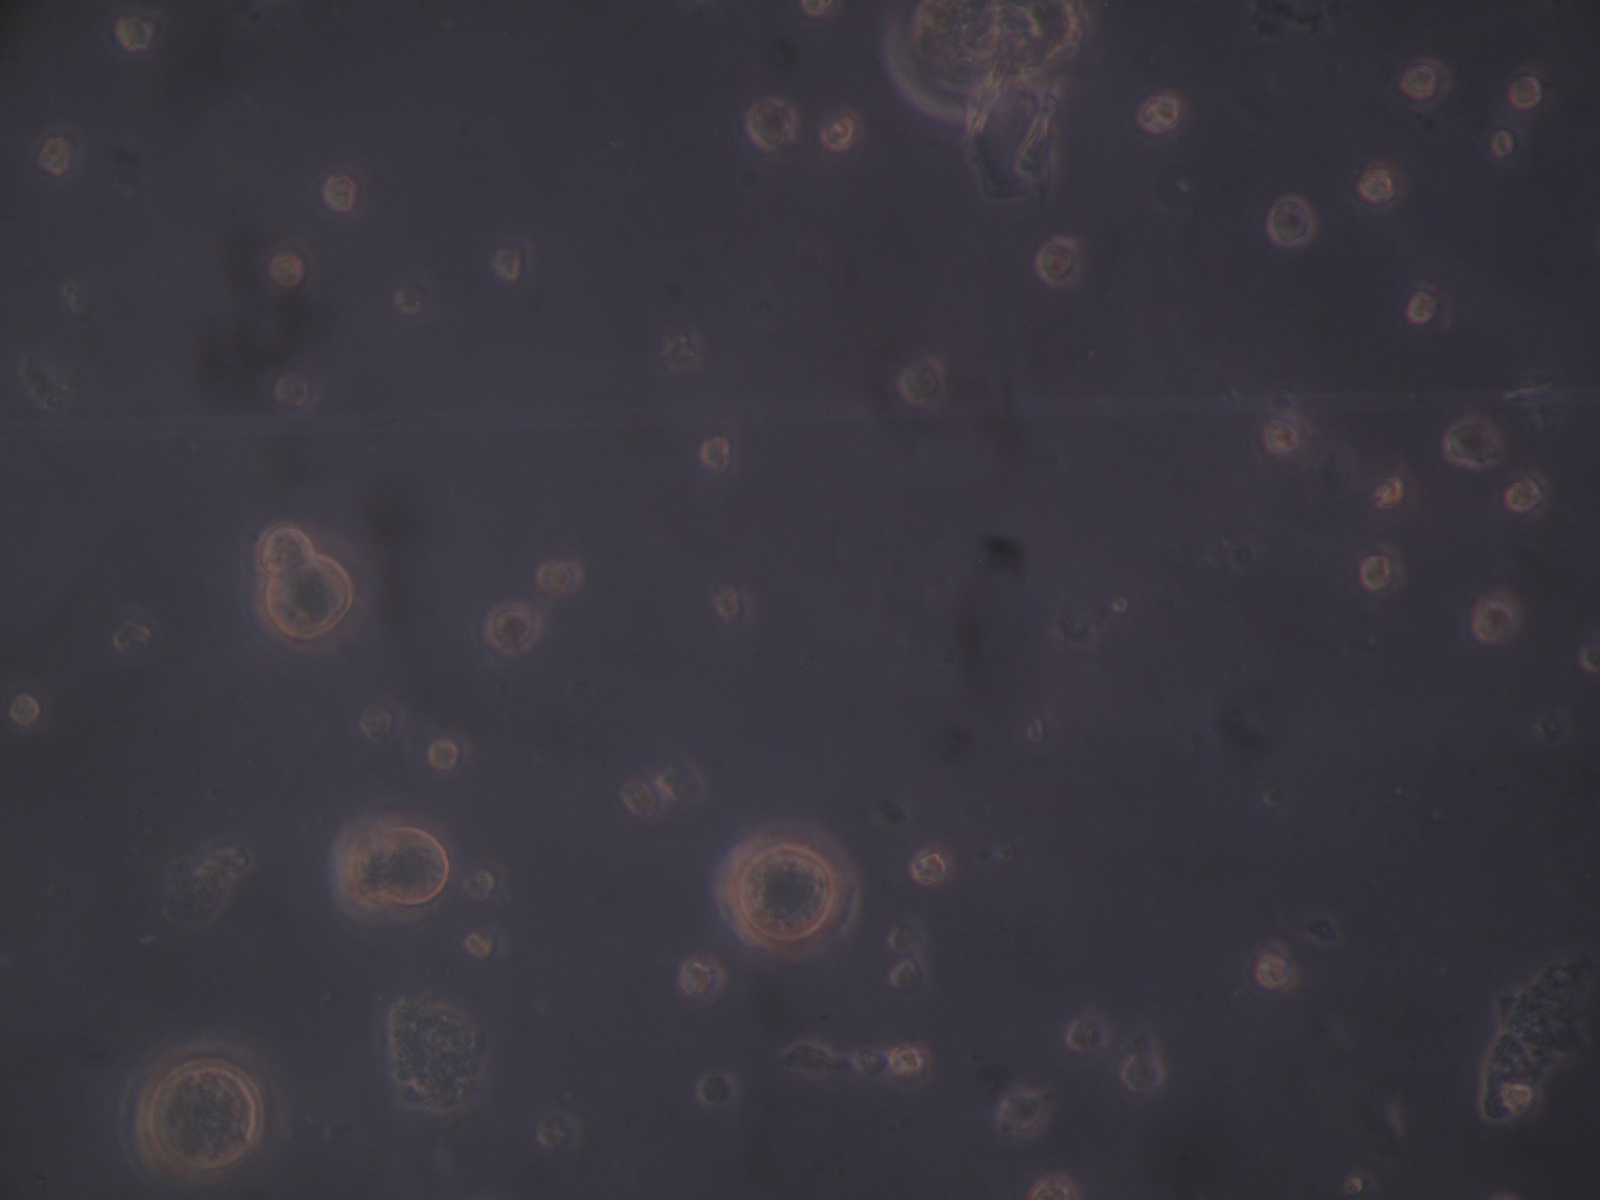hemo: (484, 601, 540, 655), (1443, 417, 1504, 466), (745, 97, 799, 153), (1398, 55, 1454, 108), (319, 161, 368, 219), (1471, 587, 1522, 642), (896, 355, 945, 408), (267, 239, 315, 291), (1507, 64, 1552, 118), (1504, 470, 1553, 519), (4, 677, 50, 729), (1034, 234, 1080, 287), (1267, 195, 1314, 245), (1362, 543, 1407, 594), (1002, 1090, 1051, 1134), (112, 13, 160, 55), (680, 955, 726, 1000), (534, 558, 585, 597), (33, 131, 72, 179), (1256, 954, 1301, 995), (1066, 1012, 1109, 1054), (273, 374, 317, 415), (460, 862, 504, 903), (821, 110, 862, 153), (1123, 1055, 1167, 1094), (910, 845, 951, 885), (713, 584, 755, 624), (1138, 95, 1180, 134), (491, 243, 534, 282), (358, 706, 402, 744), (1259, 417, 1299, 458), (889, 950, 929, 991), (619, 783, 666, 816), (1406, 284, 1444, 324), (697, 1070, 734, 1107), (1357, 166, 1395, 202), (698, 434, 731, 474), (888, 1044, 926, 1076), (430, 739, 467, 771), (1032, 1175, 1078, 1200), (1369, 476, 1403, 508), (464, 929, 493, 959)
